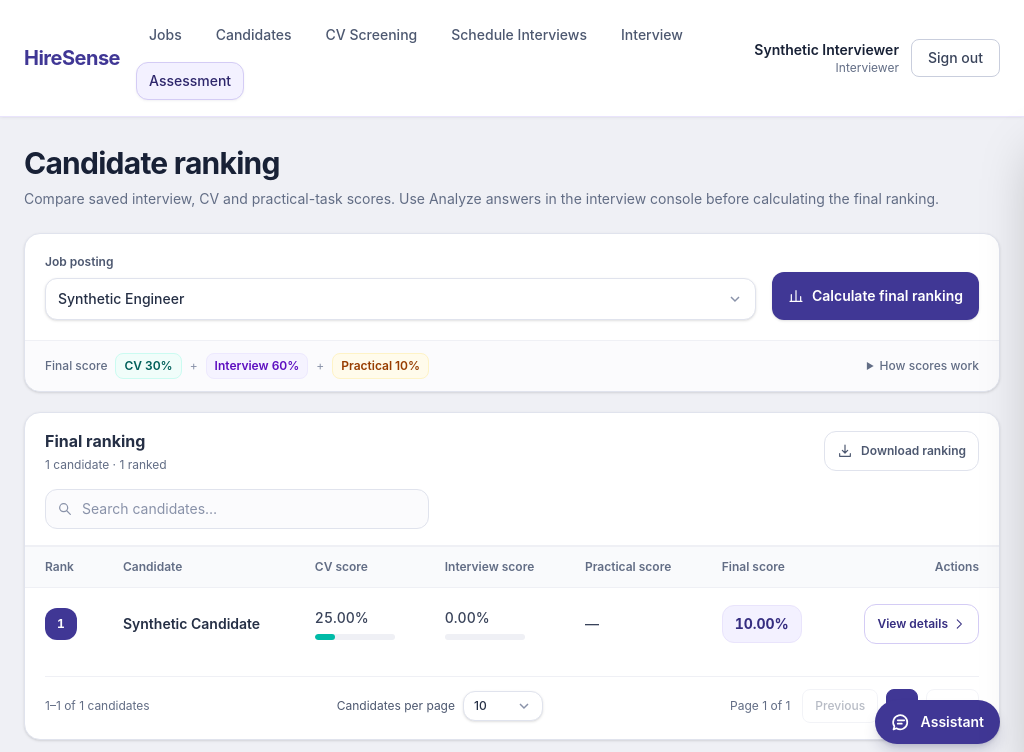
keeps saved scores visible and lets the user retry when calculation fails
Expected: the text "Synthetic Candidate" is shown, [123,614,275,634]
Step 1. Click the button "Calculate final ranking" → coordinates (876, 296), box [772,272,979,320]
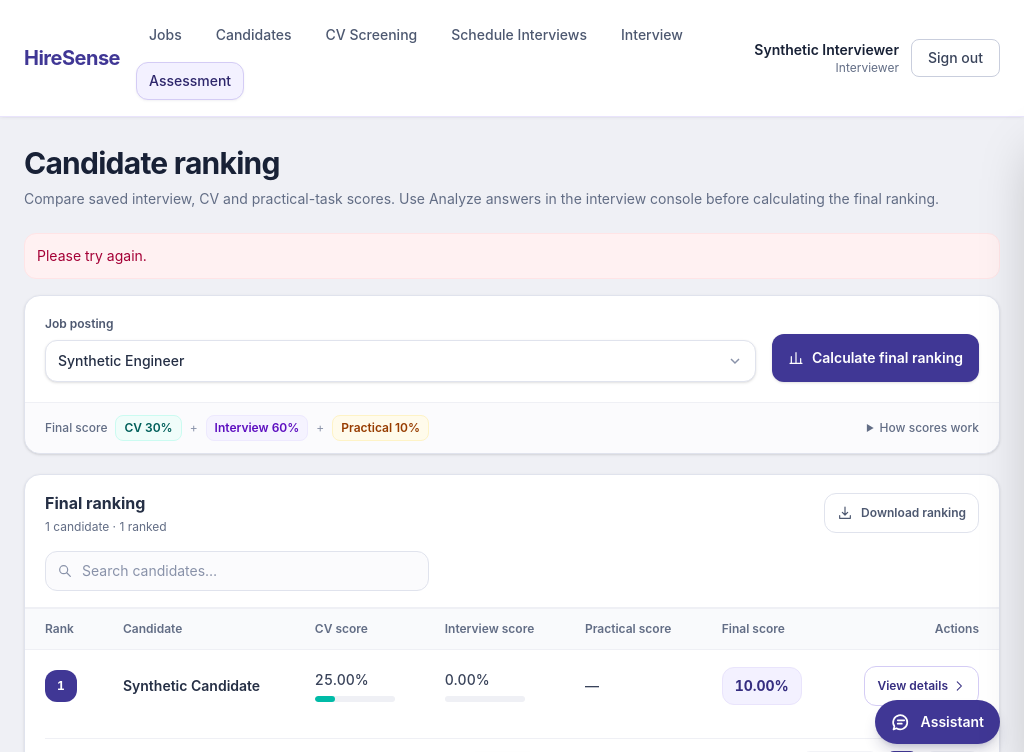
Expected: the button "Calculate final ranking" is enabled, [772,334,979,382]
Expected: the message "Please try again." is shown, [24,233,1000,279]
